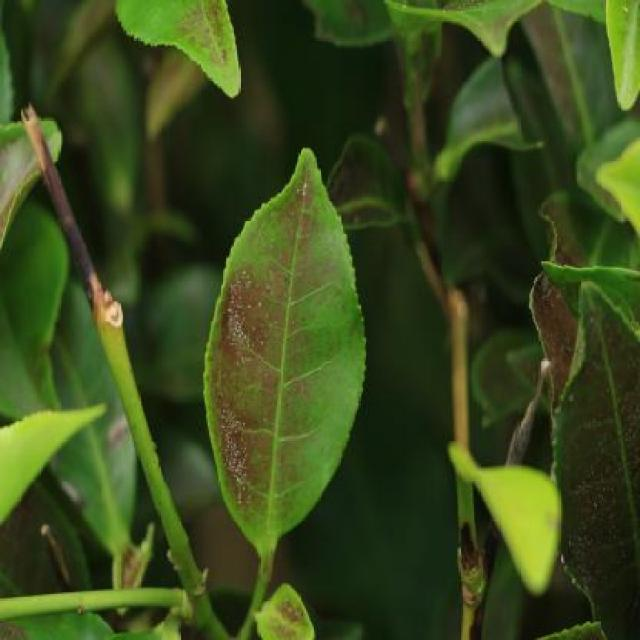Red Spider infested tea leaf: (202, 143, 369, 555), (543, 268, 640, 635)
